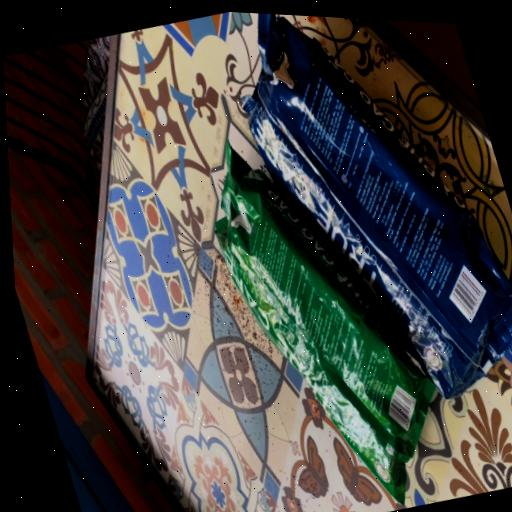cafe_hat: (243, 13, 512, 397)
cafe_xay: (215, 141, 435, 502)
